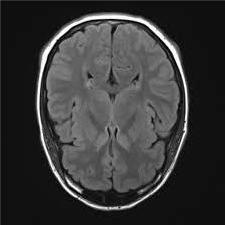Normal_Brain: (29, 1, 225, 225)
